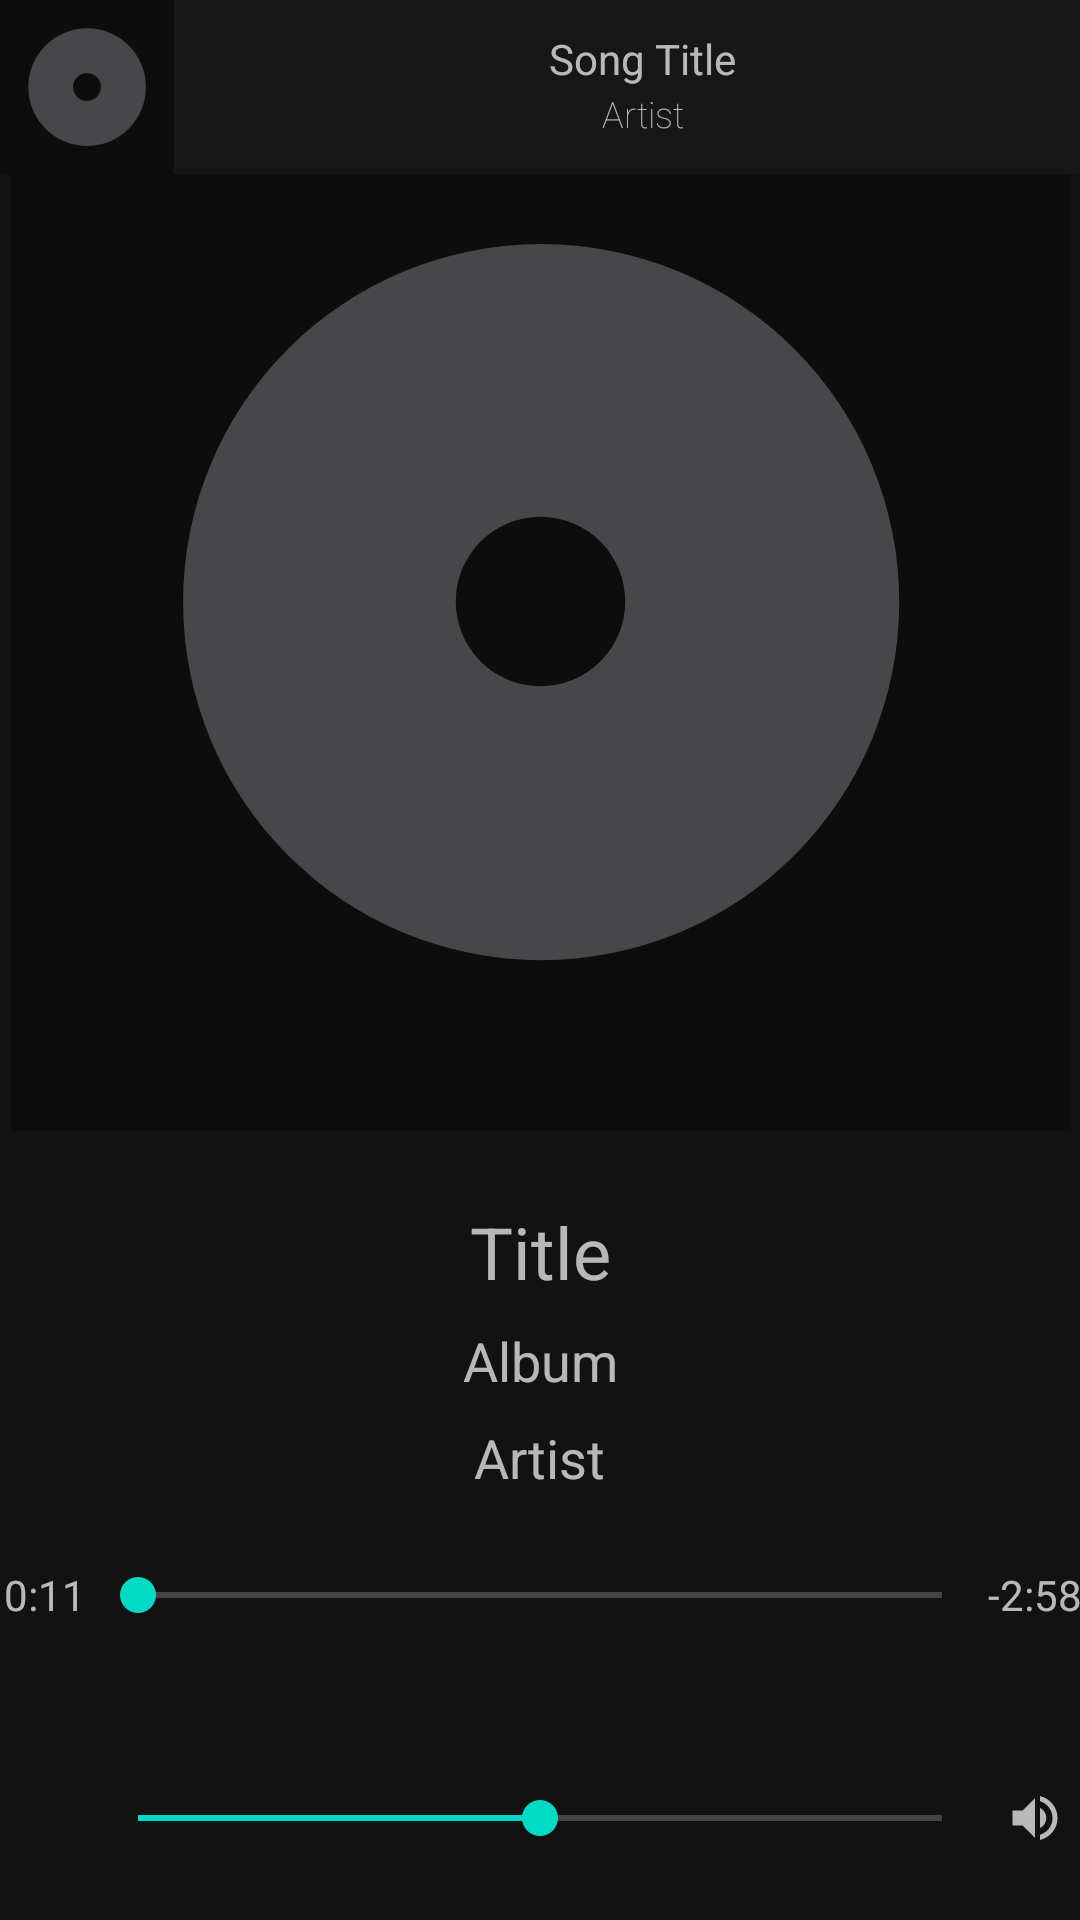

Icons on this 1080×1920 Android screen, each with the point to tap as (x,y):
volume up: (1035,1818)
